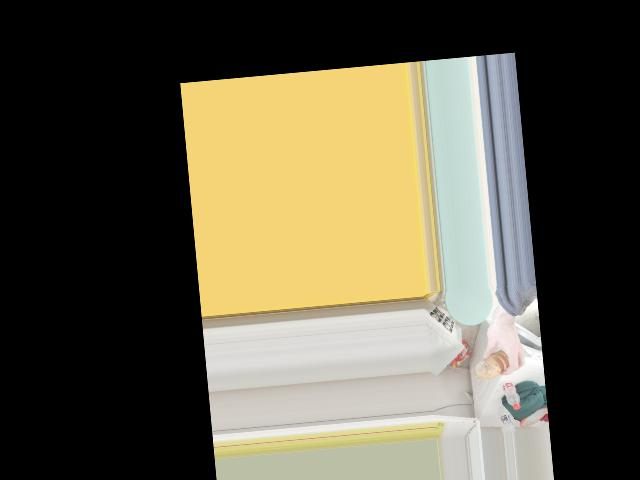sweet_potato: (479, 349, 509, 380)
